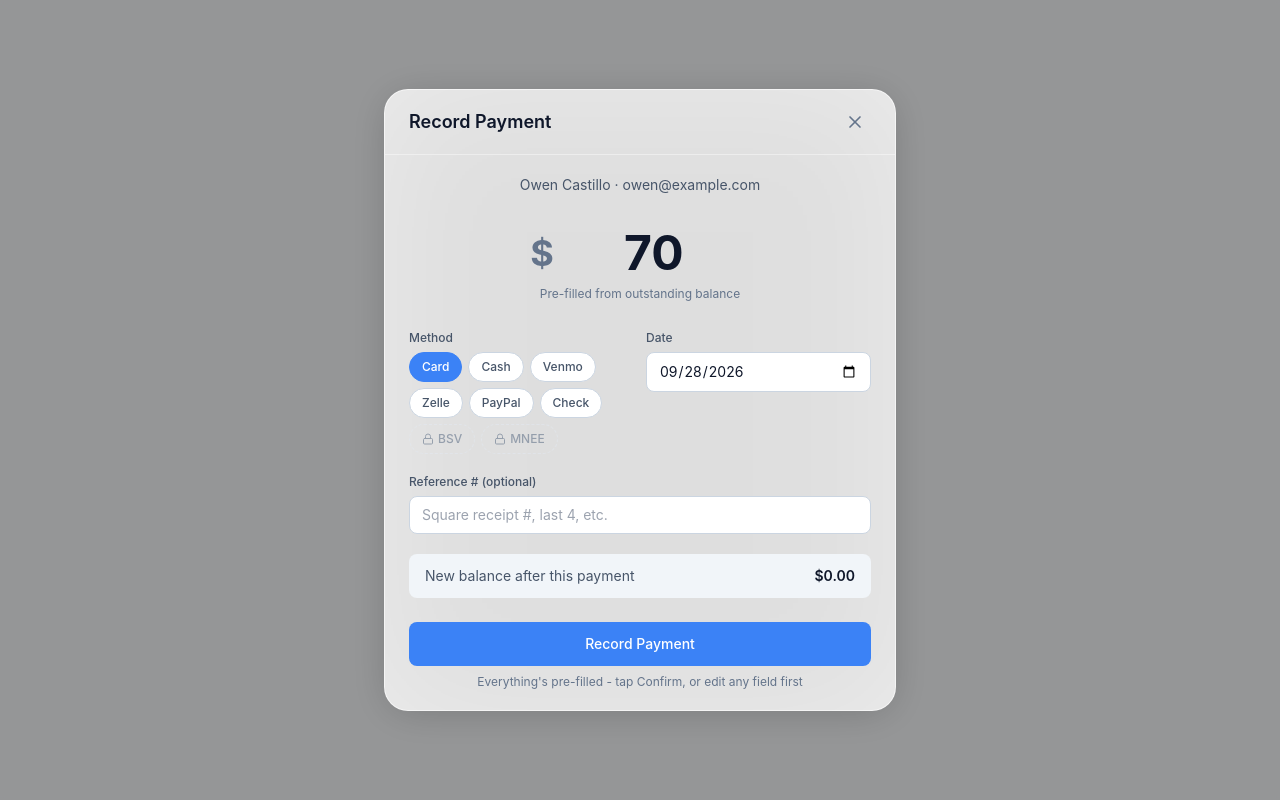
it: PaymentModal - smart amount pre-fill (item 1) › remains fully editable and the pre-fill caption disappears once edited
Replace the text in the number field with placeholder "0.00" with "25" at (654, 252), box [558,223,750,282]
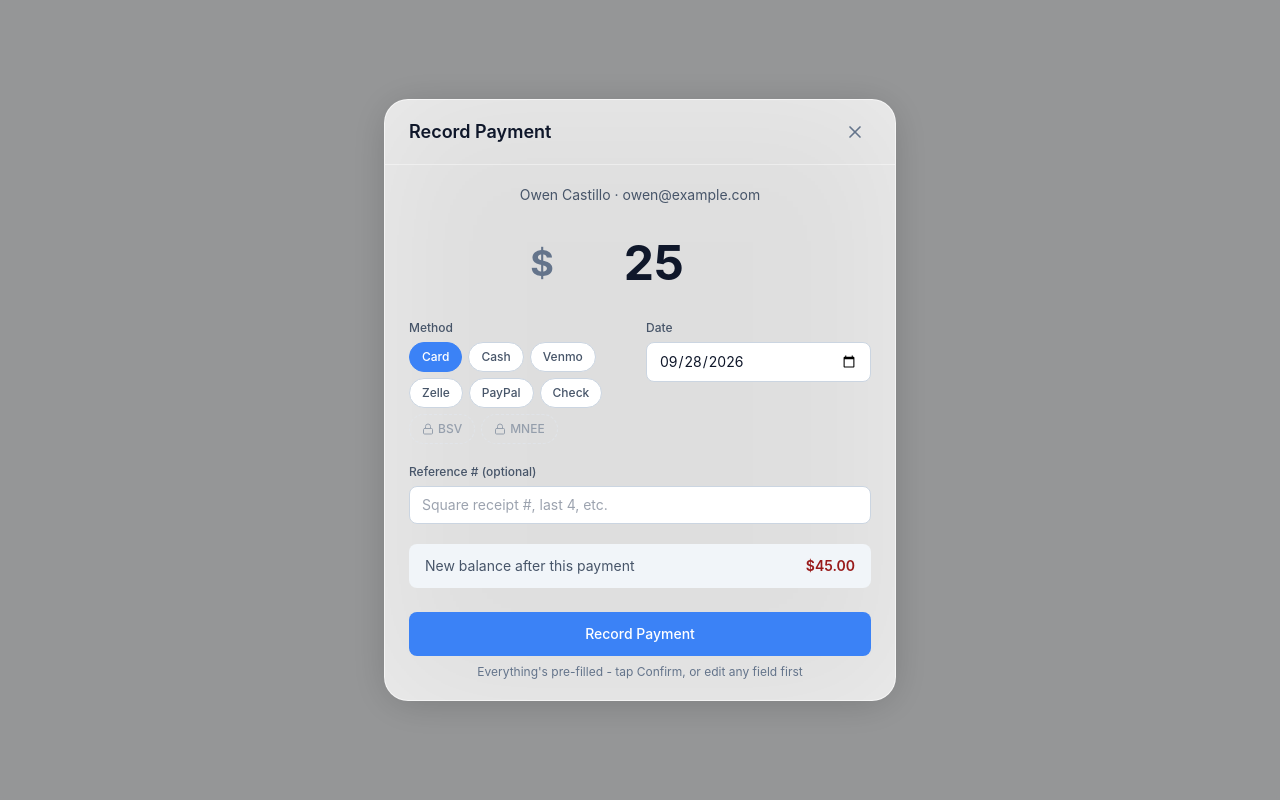
Expected: the text "Pre-filled from outstanding balance" is gone
